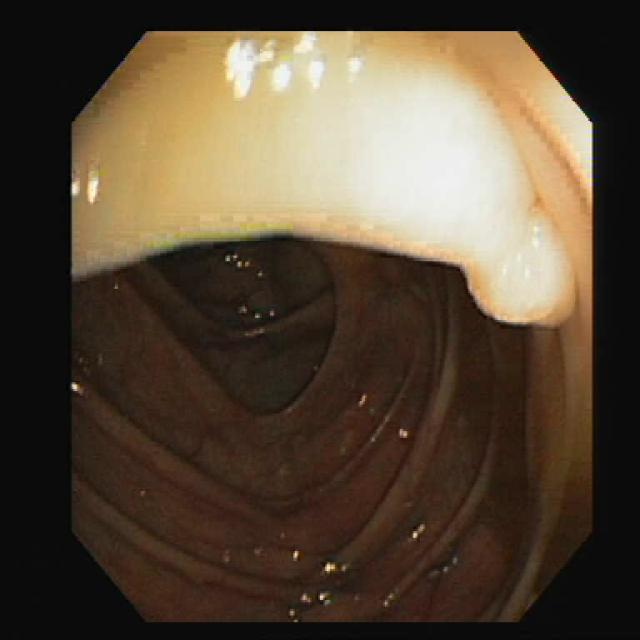tumor: (462, 207, 568, 324)
